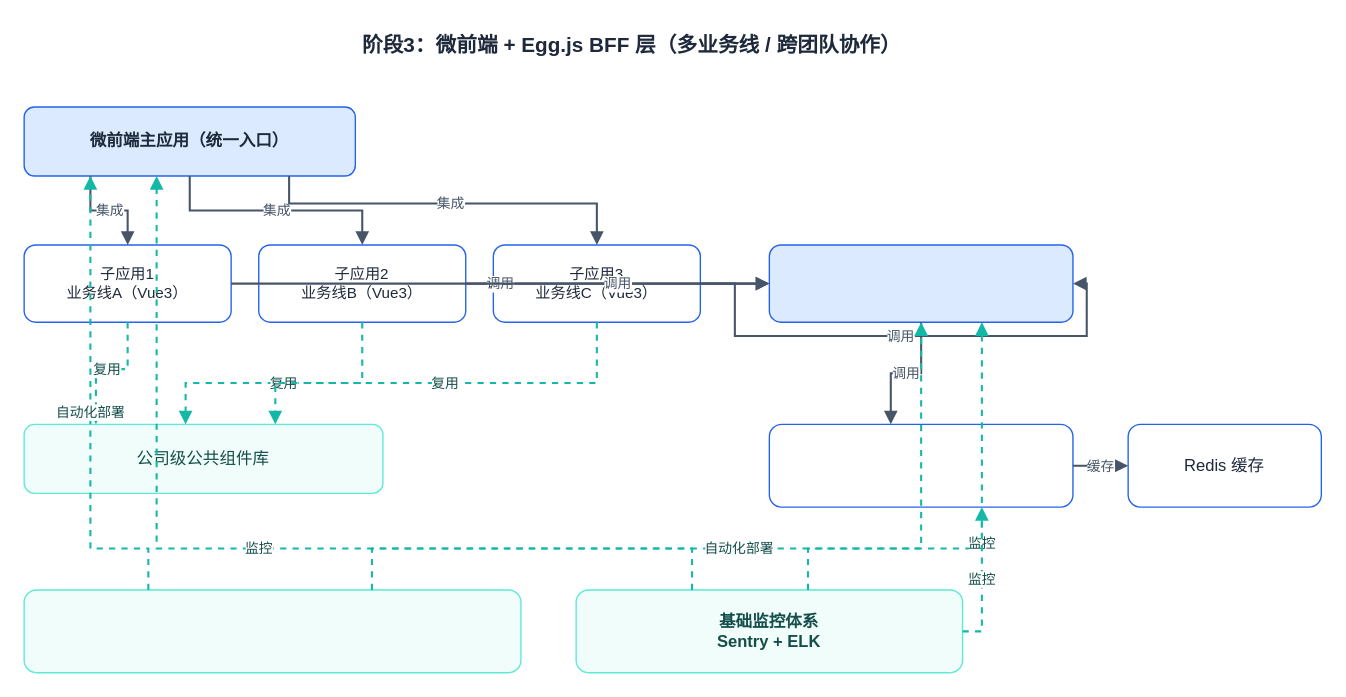
Image size: 1346x697. Some labels were removed from this diagram. Each missing label, with the box of its shape:
Egg.js 企业级 BFF 层: (768, 244, 1073, 322)
Java + SpringBoot 微服务集群: (768, 423, 1073, 507)
统一工程化体系 ESLint + CI/CD + 规范: (23, 589, 521, 673)
